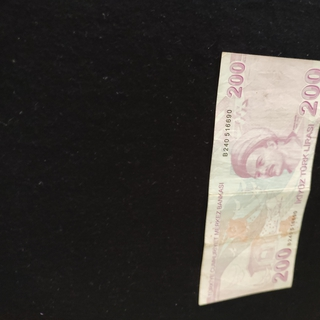200TLBack: (198, 51, 320, 305)
